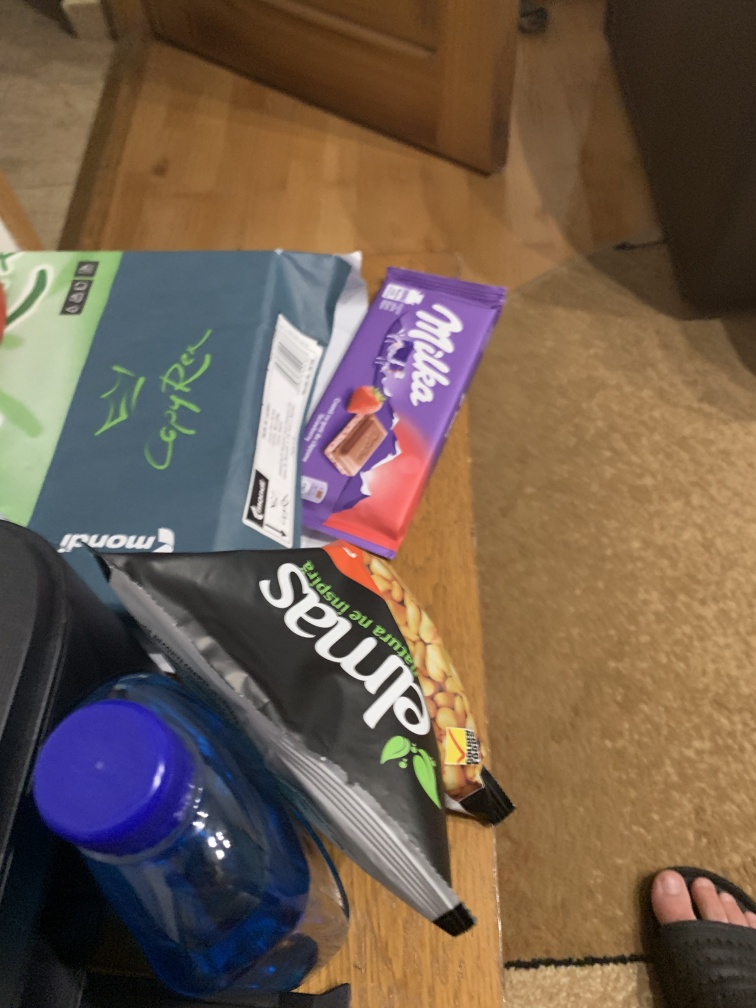milka: (305, 260, 517, 576)
peanuts: (94, 531, 521, 926)
